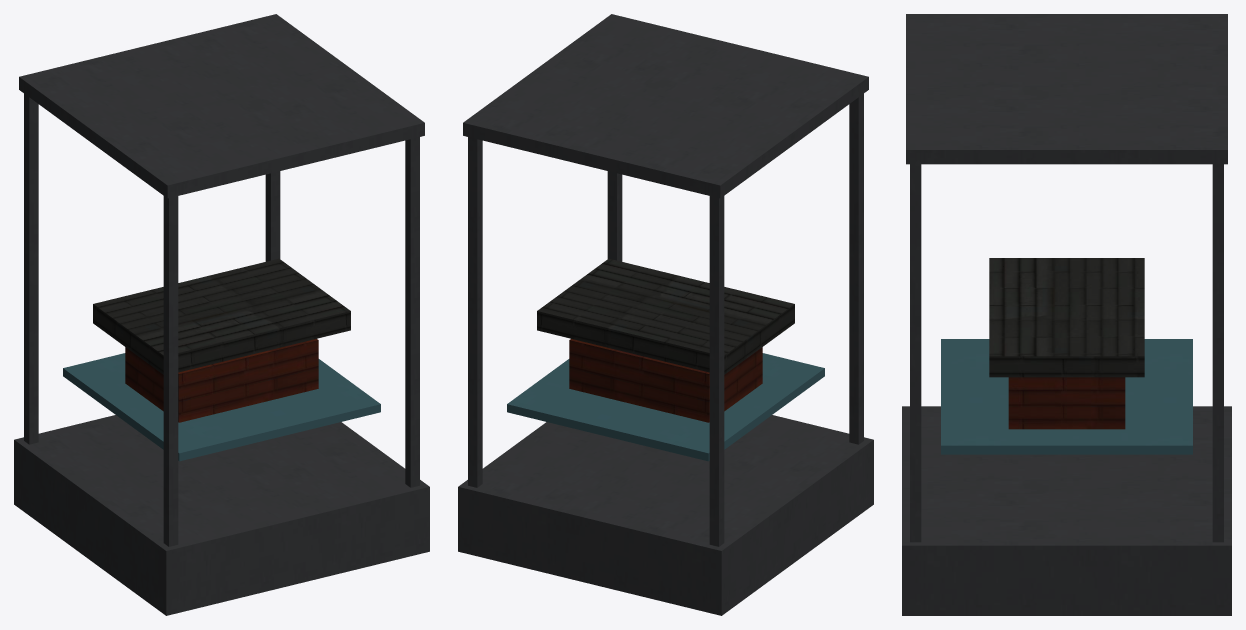
Rendered from vault_case_palace_01.glb.
3 renders of one model, left to right at view 1: azimuth 30°, elevation 25°; view 2: azimuth 150°, elevation 25°; view 3: azimuth 270°, elevation 25°, orthographic. The views are drawn at different scales.
Visible parts, largest first — view 1: vault_case_palace_01; view 2: vault_case_palace_01; view 3: vault_case_palace_01.
Boxes of the visible parts, <box> form: vault_case_palace_01: <box>14,14,429,615</box>; vault_case_palace_01: <box>458,14,873,615</box>; vault_case_palace_01: <box>902,14,1231,615</box>.
Size of the model in its own units: 1.7 by 2.64 by 1.7.
4 materials, 4 textured.
